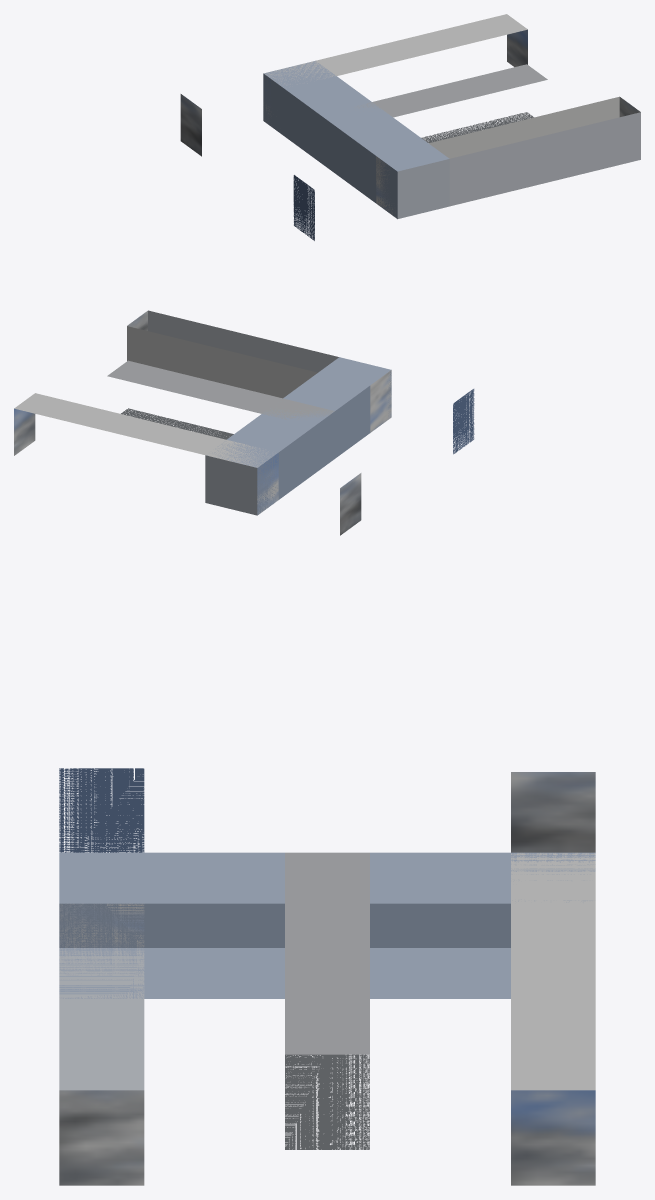
File: section-2.obj
3 renders of one model, top to bottom at view 1: azimuth 30°, elevation 25°; view 2: azimuth 150°, elevation 25°; view 3: azimuth 270°, elevation 25°, orthographic. The views are drawn at different scales.
Bounding box in the file's own units: 0.6549 × 0.0653 × 0.3086.
